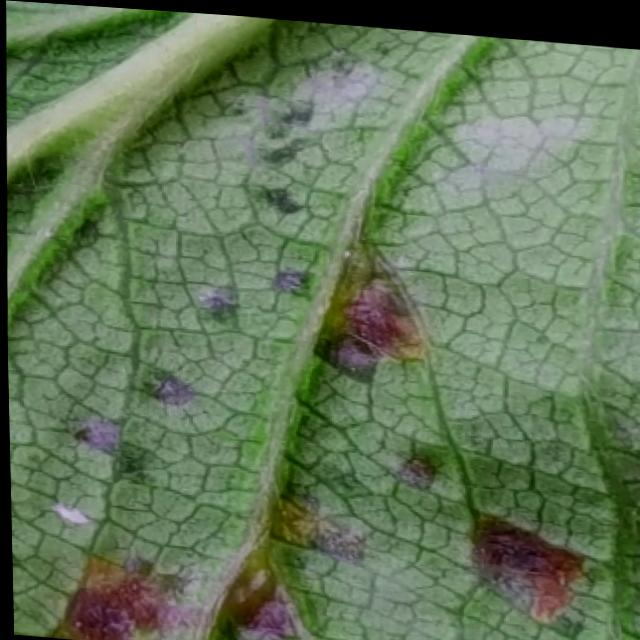Angular Leafspot: (38, 33, 609, 640)
